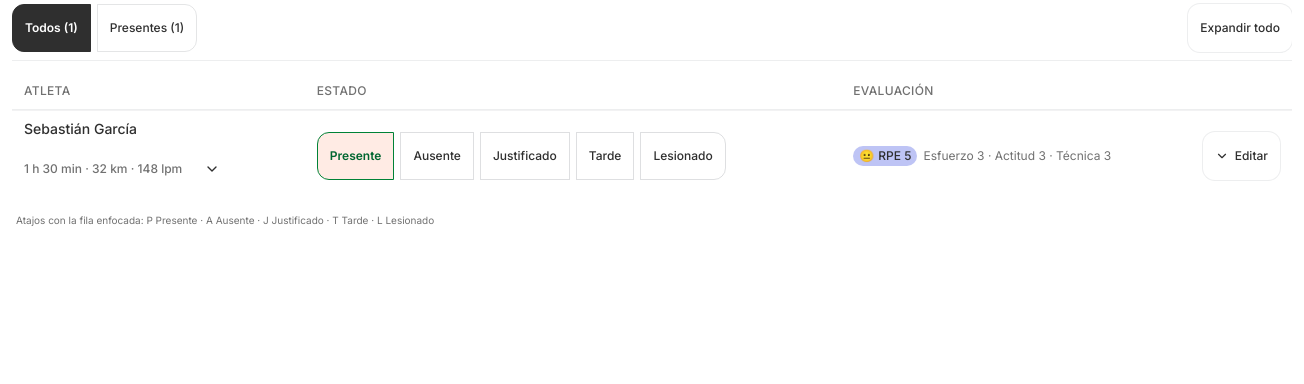
Test case: AttendanceTable › evidencia de actividad Strava (session-detail-redesign.md §3.2) › el chevron expande y muestra un ActivityCard por actividad enlazada
The width and height of the screenshot is (1304, 384).
Expected: the text "Rodada matutina" is not shown
Click the button named "ver detalle de actividad" at (212, 169), box x1=188 y1=145 x2=236 y2=193
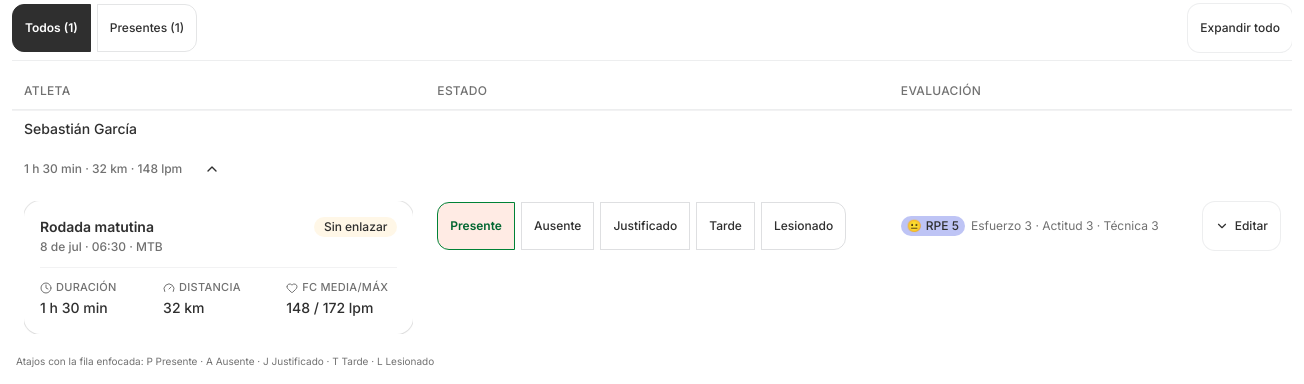
Now the text "Rodada matutina" is shown, box x1=40 y1=217 x2=163 y2=237
